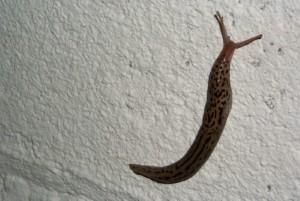slug: (88, 12, 267, 187)
